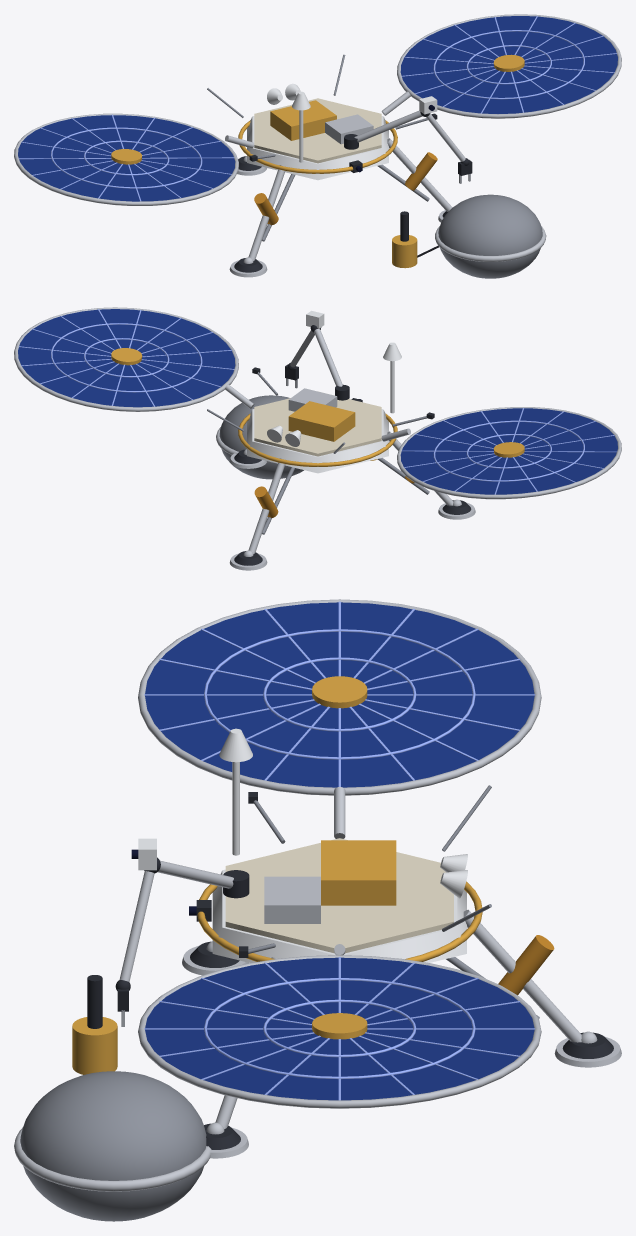
Rendered from insight.glb.
The picture shows the model from 3 angles, top to bottom: view 1: azimuth 30°, elevation 25°; view 2: azimuth 150°, elevation 25°; view 3: azimuth 270°, elevation 25°; orthographic projection. The views are drawn at different scales.
Visible parts, largest first — view 1: solar-fan (×2), insight, seis-dome, footpad; view 2: solar-fan (×2), insight, seis-dome, footpad (×3); view 3: solar-fan (×2), insight, seis-dome, footpad (×3).
Part boxes in pixels (x1,y1,x2,y2): solar-fan (×2): (14, 14, 621, 205); insight: (207, 54, 469, 268); seis-dome: (435, 194, 546, 278); footpad: (229, 257, 267, 277); solar-fan (×2): (14, 307, 621, 499); insight: (207, 310, 453, 553); seis-dome: (216, 395, 303, 479); footpad (×3): (229, 449, 475, 570); solar-fan (×2): (138, 599, 541, 1108); insight: (72, 728, 581, 1129); seis-dome: (14, 1071, 211, 1221); footpad (×3): (182, 941, 621, 1158).
Bounding box in the file's own units: 6.34 × 2.02 × 3.23.
